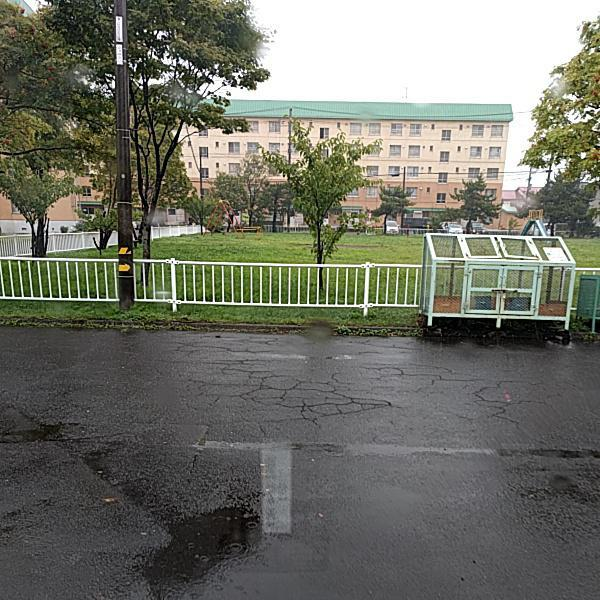D20: (173, 339, 581, 460)
